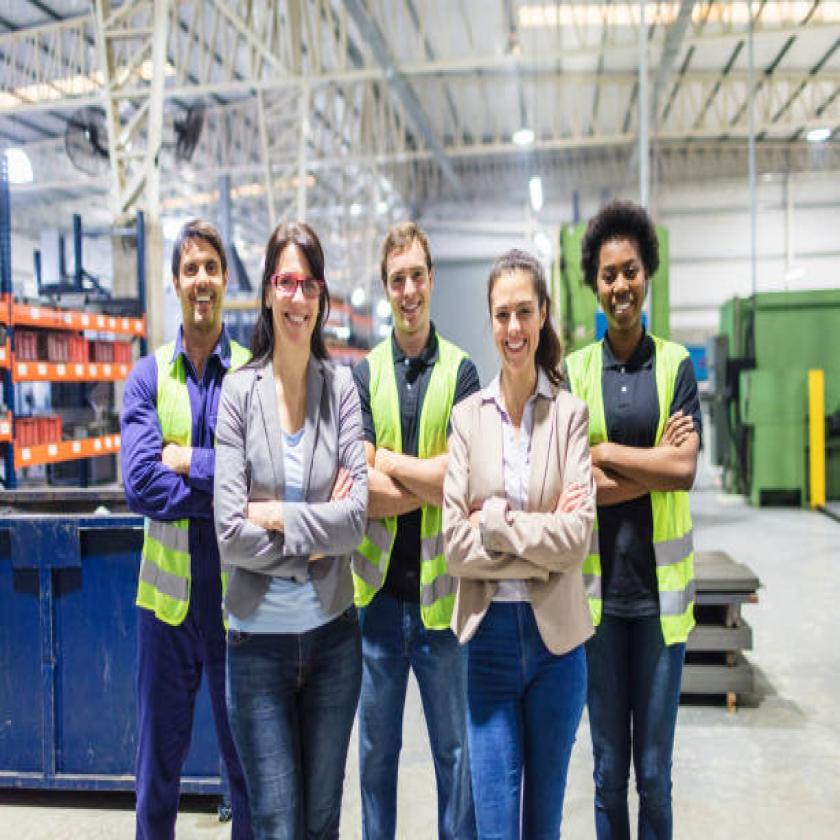Sin_casco: (574, 182, 684, 358), (478, 227, 559, 386), (257, 202, 335, 360), (165, 198, 233, 356), (370, 202, 439, 350)
